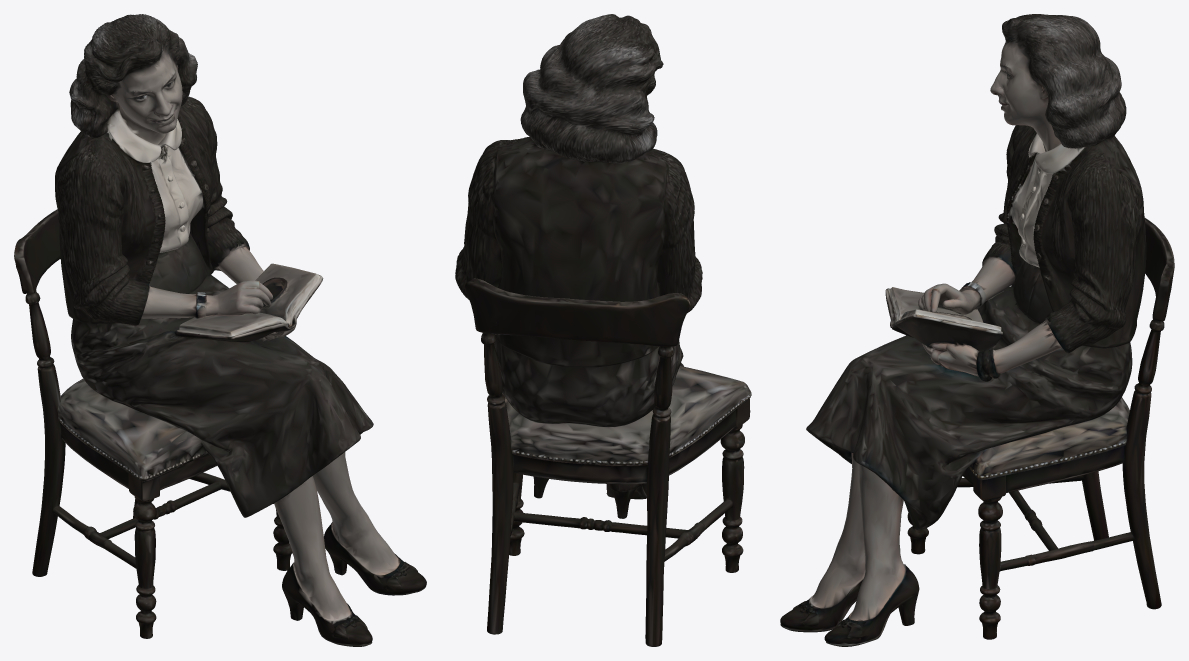
The picture shows the model from 3 angles, left to right: view 1: azimuth 30°, elevation 25°; view 2: azimuth 150°, elevation 25°; view 3: azimuth 270°, elevation 25°; orthographic projection. The views are drawn at different scales.
Size of the model in its own units: 0.522 by 0.9786 by 0.6203.
